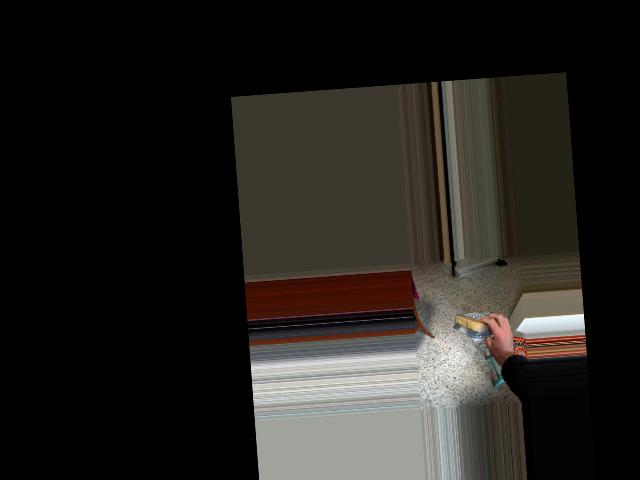cheese: (451, 310, 499, 336)
